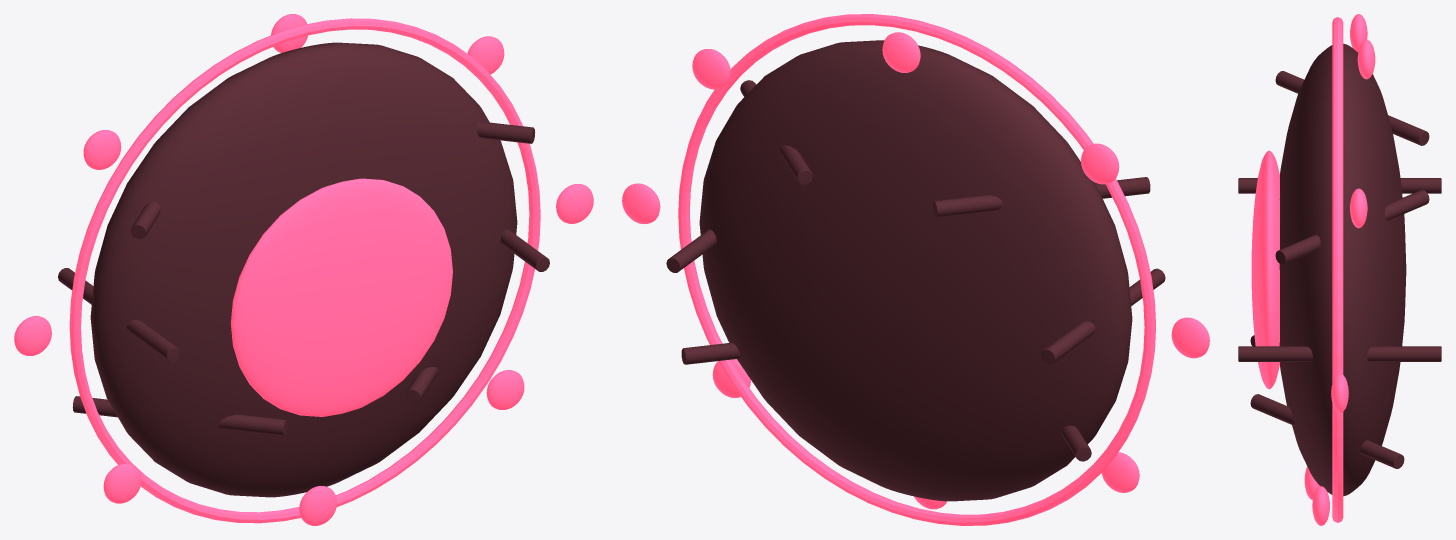
The model's file is cg_malware_boss.glb.
3 views of the same model, side by side, from view 1: azimuth 30°, elevation 25°; view 2: azimuth 150°, elevation 25°; view 3: azimuth 270°, elevation 25° (orthographic). The views are drawn at different scales.
Parts seen in each view (by area): view 1: boss_black_shell, boss_red_core, boss_outer_firewall_ring, boss_data_tentacle_05, boss_data_tentacle_04, boss_tentacle_tip_05, boss_tentacle_tip_00, boss_tentacle_tip_04, boss_tentacle_tip_06, boss_tentacle_tip_03, boss_tentacle_tip_07, boss_data_tentacle_01 (+5 smaller); view 2: boss_black_shell, boss_outer_firewall_ring, boss_data_tentacle_03, boss_data_tentacle_04, boss_tentacle_tip_01, boss_tentacle_tip_04, boss_tentacle_tip_00, boss_tentacle_tip_02, boss_tentacle_tip_03, boss_tentacle_tip_05, boss_data_tentacle_07, boss_data_tentacle_00 (+2 smaller); view 3: boss_black_shell, boss_outer_firewall_ring, boss_red_core, boss_data_tentacle_00, boss_data_tentacle_01, boss_data_tentacle_07, boss_data_tentacle_03, boss_data_tentacle_04, boss_tentacle_tip_00, boss_tentacle_tip_02, boss_tentacle_tip_01, boss_tentacle_tip_07 (+2 smaller).
Boxes of the visible parts, <box> form: boss_black_shell: <box>90,42,517,497</box>; boss_red_core: <box>230,178,452,416</box>; boss_outer_firewall_ring: <box>69,18,540,523</box>; boss_data_tentacle_05: <box>72,396,287,435</box>; boss_data_tentacle_04: <box>58,268,180,362</box>; boss_tentacle_tip_05: <box>103,463,141,503</box>; boss_tentacle_tip_00: <box>556,184,593,223</box>; boss_tentacle_tip_04: <box>14,316,51,355</box>; boss_tentacle_tip_06: <box>299,486,336,525</box>; boss_tentacle_tip_03: <box>83,130,121,169</box>; boss_tentacle_tip_07: <box>486,370,524,409</box>; boss_data_tentacle_01: <box>476,121,535,143</box>; boss_black_shell: <box>699,40,1132,501</box>; boss_outer_firewall_ring: <box>678,14,1155,525</box>; boss_data_tentacle_03: <box>933,177,1150,217</box>; boss_data_tentacle_04: <box>1041,268,1165,364</box>; boss_tentacle_tip_01: <box>692,49,730,89</box>; boss_tentacle_tip_04: <box>1171,317,1209,358</box>; boss_tentacle_tip_00: <box>622,183,660,224</box>; boss_tentacle_tip_02: <box>882,32,920,72</box>; boss_tentacle_tip_03: <box>1081,143,1119,184</box>; boss_tentacle_tip_05: <box>1101,452,1139,492</box>; boss_data_tentacle_07: <box>681,342,740,364</box>; boss_data_tentacle_00: <box>666,229,716,272</box>; boss_black_shell: <box>1279,43,1406,496</box>; boss_outer_firewall_ring: <box>1332,17,1343,522</box>; boss_red_core: <box>1251,150,1279,389</box>; boss_data_tentacle_00: <box>1238,346,1441,361</box>; boss_data_tentacle_01: <box>1275,190,1429,264</box>; boss_data_tentacle_07: <box>1250,394,1404,468</box>; boss_data_tentacle_03: <box>1275,71,1429,145</box>; boss_data_tentacle_04: <box>1238,178,1441,193</box>; boss_tentacle_tip_00: <box>1331,373,1348,413</box>; boss_tentacle_tip_02: <box>1357,39,1375,79</box>; boss_tentacle_tip_01: <box>1350,188,1367,228</box>; boss_tentacle_tip_07: <box>1312,486,1329,525</box>.
Bounding box in the file's own units: 2.82 × 2.29 × 0.92.
